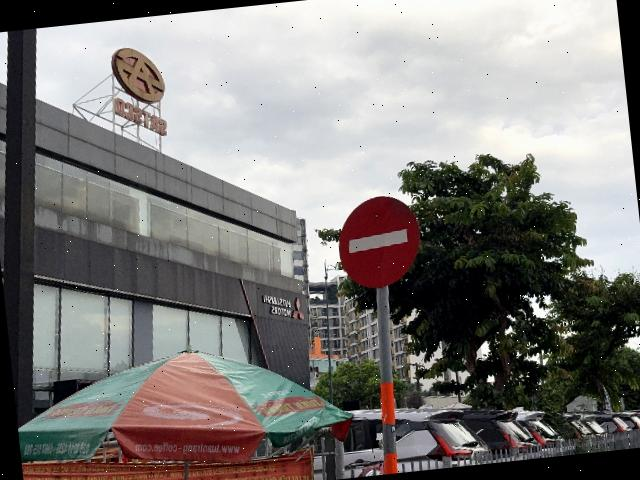cam-di-nguoc-chieu: (334, 192, 426, 292)
